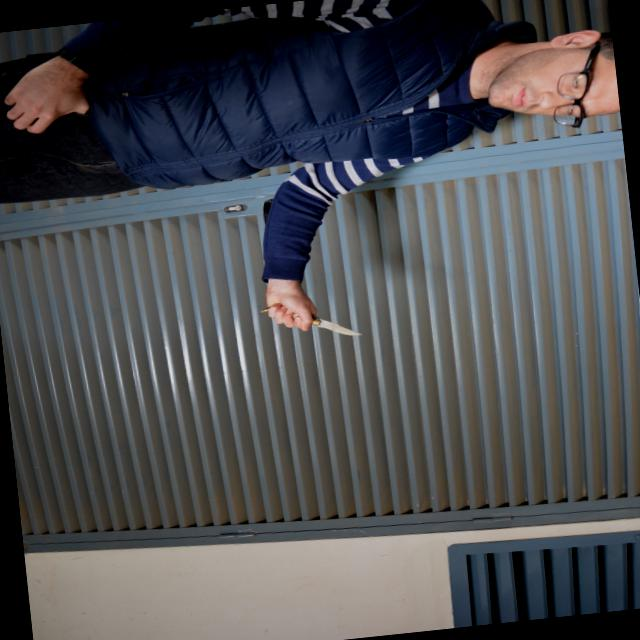knife: (255, 294, 367, 348)
